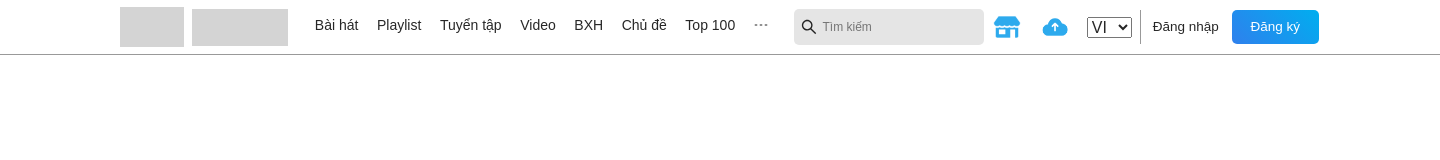
Scenario: check multi language › should change to english when select en
The width and height of the screenshot is (1440, 160).
Check: the link "Bài hát" is shown, box [315, 17, 358, 33]
Select "EN" in the dropdown with test id "select". click: (1109,27)
box: [1087, 16, 1132, 38]
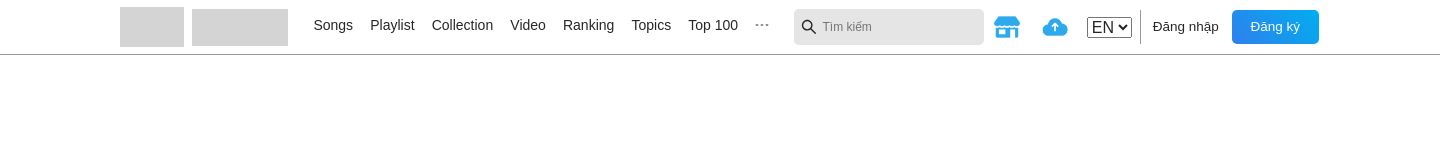
Check: the link "Songs" is shown, box [313, 17, 353, 33]
